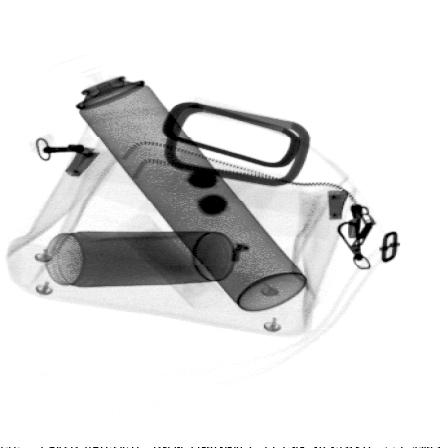Sprayer: (48, 44, 309, 313)
